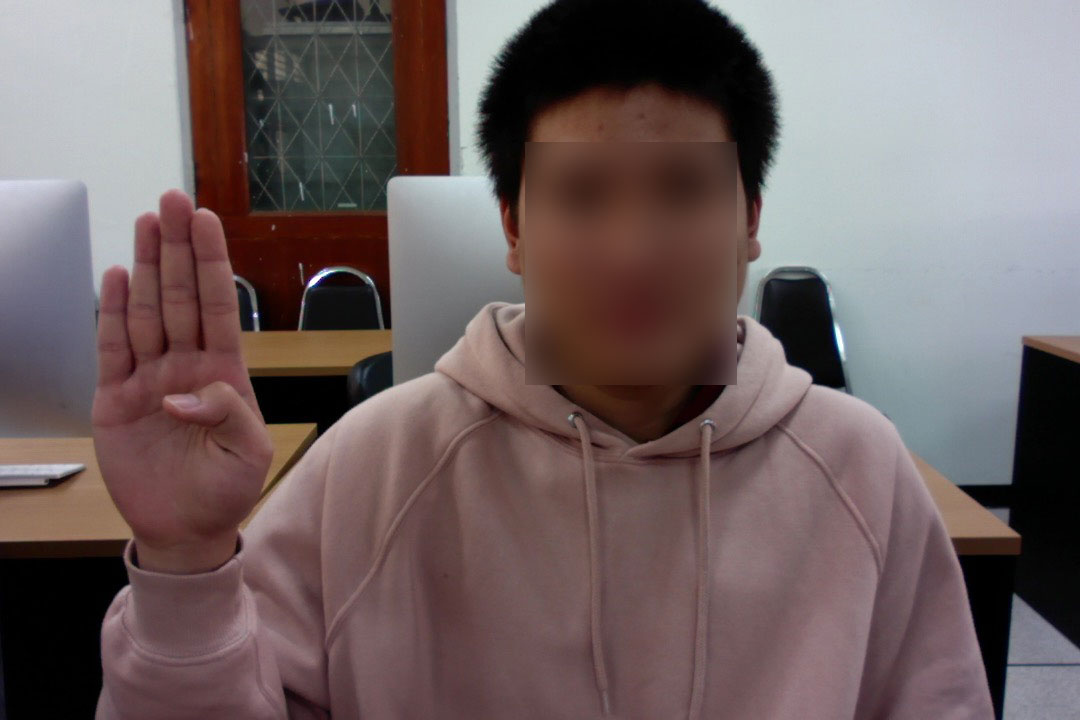bor: (71, 181, 291, 593)
